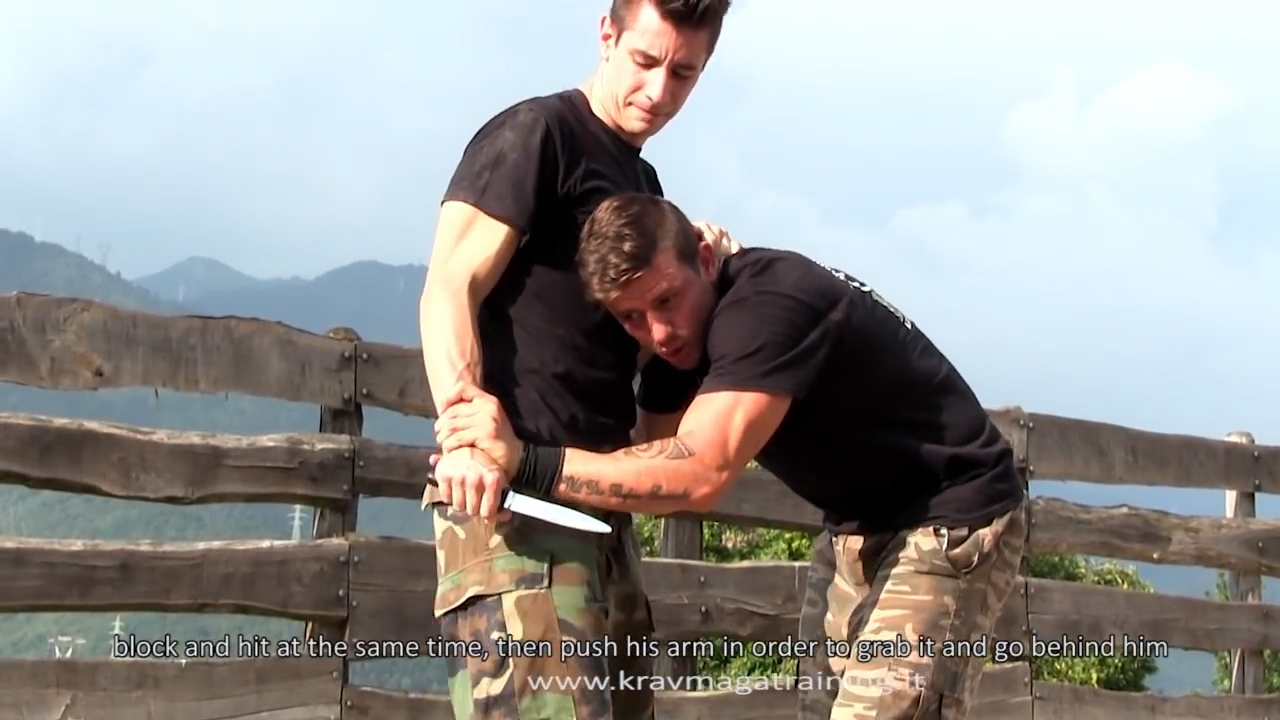knife: (420, 450, 623, 545)
